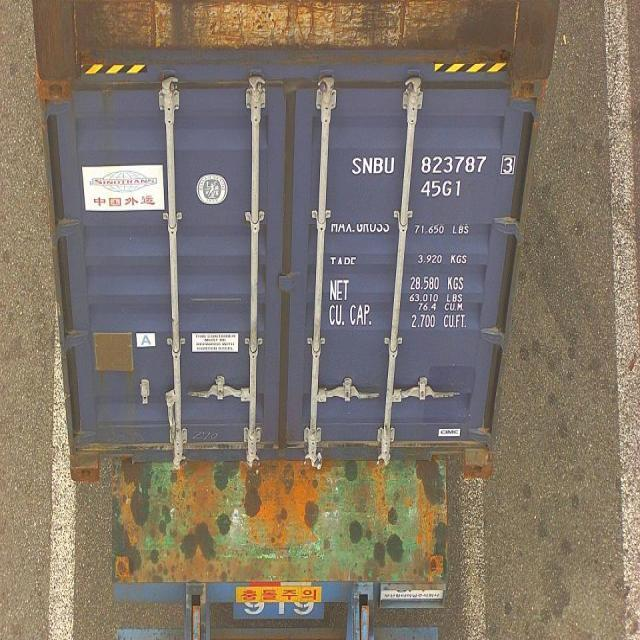ISO: (419, 180, 462, 198)
container_number: (351, 152, 518, 174)
